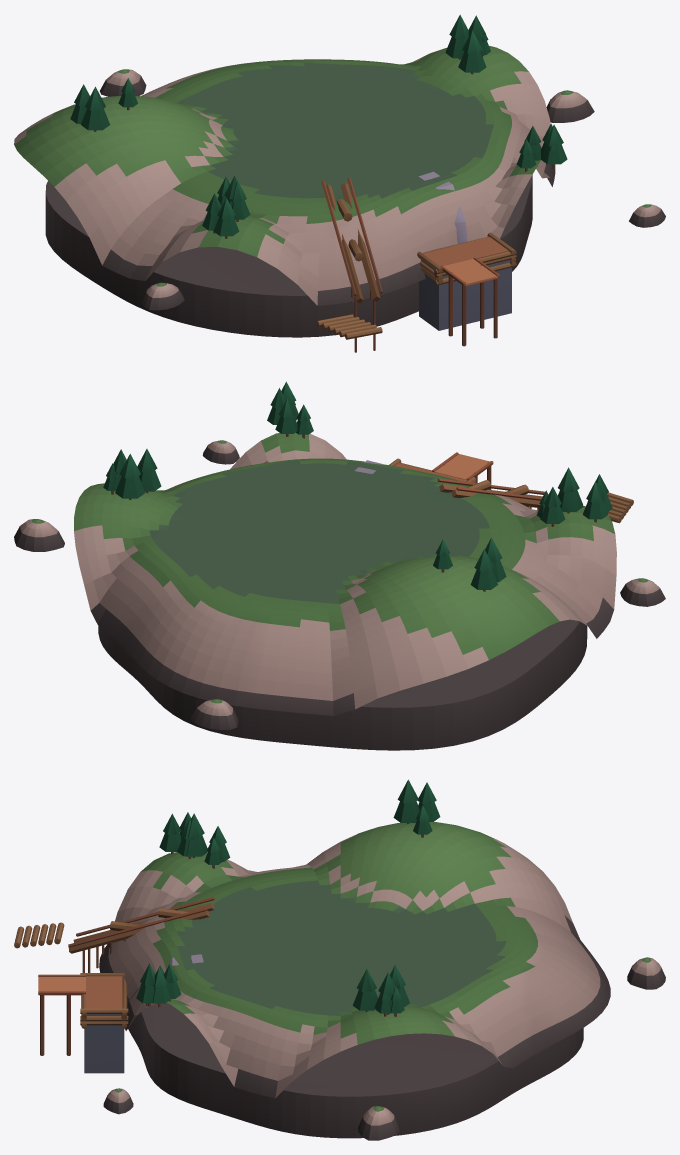
The model's file is lumber-body.glb.
The picture shows the model from 3 angles, top to bottom: view 1: azimuth 30°, elevation 25°; view 2: azimuth 150°, elevation 25°; view 3: azimuth 270°, elevation 25°; orthographic projection. The views are drawn at different scales.
Parts seen in each view (by area): view 1: body; view 2: body; view 3: body.
Part boxes in pixels (x1,y1,x2,y2): body: [14, 14, 665, 352]; body: [14, 381, 665, 750]; body: [14, 779, 665, 1140].
Bounding box in the file's own units: 32.47 × 10.01 × 34.08.
